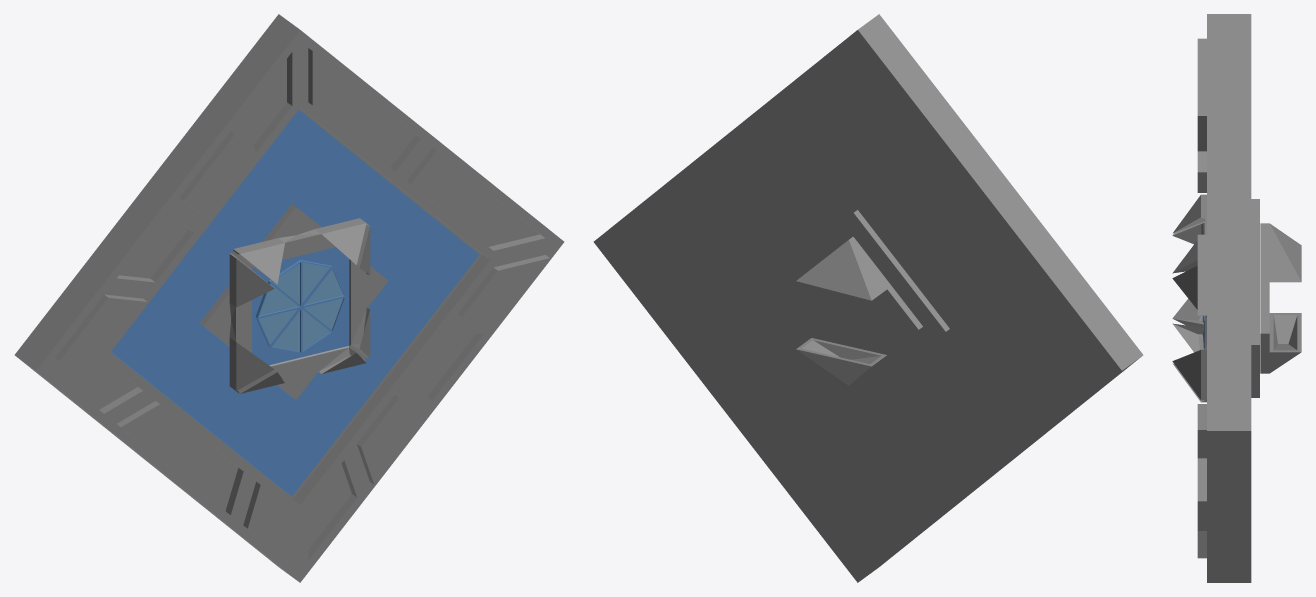
Rendered from Laser_Receiver.fbx.
3 renders of one model, left to right at view 1: azimuth 30°, elevation 25°; view 2: azimuth 150°, elevation 25°; view 3: azimuth 270°, elevation 25°, orthographic. The views are drawn at different scales.
Parts seen in each view (by area): view 1: polySurface5, polySurface3, polySurface9, polySurface8, polySurface4; view 2: polySurface5, polySurface7, polySurface6; view 3: polySurface5, polySurface7, polySurface9, polySurface6.
Part boxes in pixels (x1,y1,x2,y2): polySurface5: (14, 14, 564, 582); polySurface3: (111, 110, 479, 496); polySurface9: (229, 218, 370, 393); polySurface8: (255, 260, 345, 353); polySurface4: (200, 204, 388, 399); polySurface5: (593, 14, 1143, 582); polySurface7: (779, 236, 922, 385); polySurface6: (761, 210, 949, 405); polySurface5: (1197, 14, 1251, 582); polySurface7: (1260, 223, 1301, 373); polySurface9: (1172, 194, 1206, 402); polySurface6: (1251, 199, 1259, 397).
Bounding box in the file's own units: 64.41 × 64.41 × 13.27.
